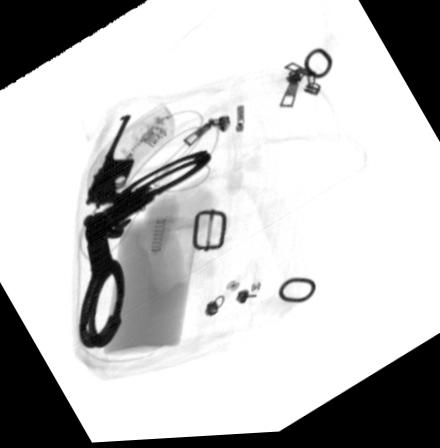Gun: (84, 112, 153, 207)
HandCuffs: (78, 150, 218, 351)
